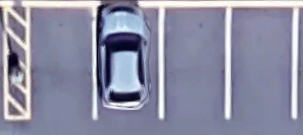Occupied: (94, 7, 162, 120)
Vacant: (29, 6, 96, 120), (228, 7, 295, 120), (162, 7, 228, 120)
